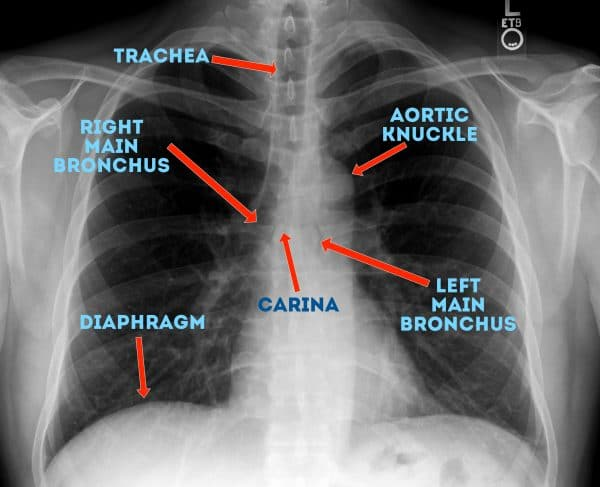telestration: (168, 140, 261, 227), (50, 118, 171, 173), (397, 279, 520, 332), (322, 235, 431, 286), (378, 105, 479, 142), (78, 313, 208, 333), (351, 139, 409, 179), (111, 46, 210, 68), (207, 51, 283, 77), (277, 232, 303, 294), (254, 296, 340, 313), (129, 337, 152, 397)
